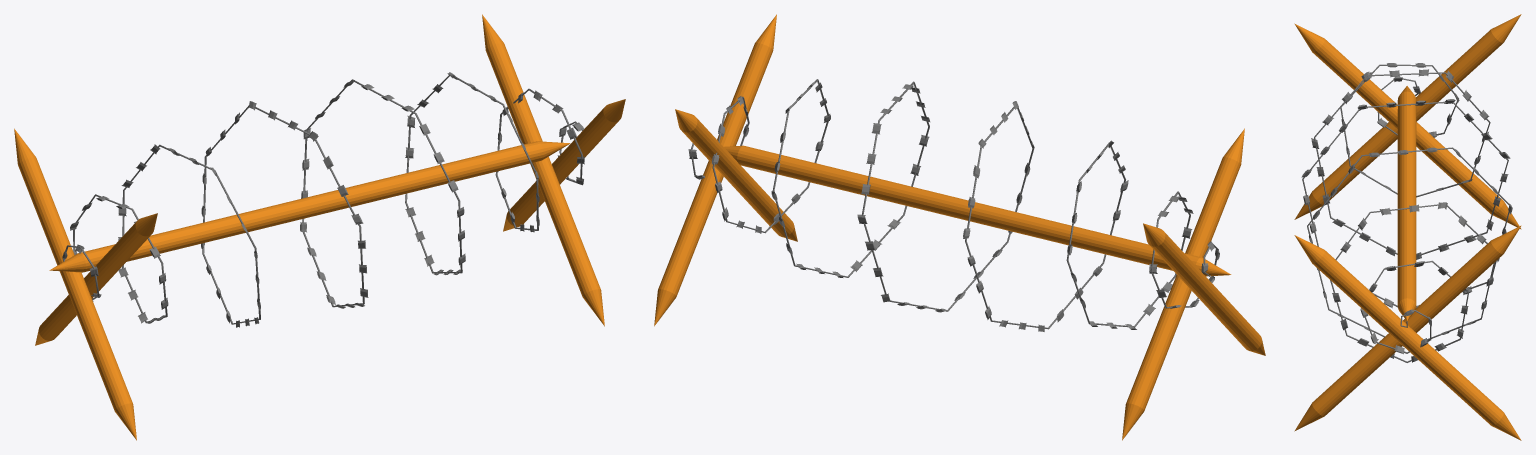
The model's file is Barbed wire.fbx.
3 views of the same model, side by side, from view 1: azimuth 30°, elevation 25°; view 2: azimuth 150°, elevation 25°; view 3: azimuth 270°, elevation 25° (orthographic). The views are drawn at different scales.
Parts seen in each view (by area): view 1: Cylinder, Cube; view 2: Cylinder, Cube; view 3: Cylinder, Cube.
Part boxes in pixels (box(x1,y1,x2,y2)): Cylinder: box(14, 14, 625, 440); Cube: box(62, 72, 584, 327); Cylinder: box(654, 14, 1265, 440); Cube: box(688, 79, 1219, 331); Cylinder: box(1294, 14, 1521, 440); Cube: box(1301, 63, 1512, 362).
Size of the model in its own units: 61.46 by 25.17 by 24.45.
